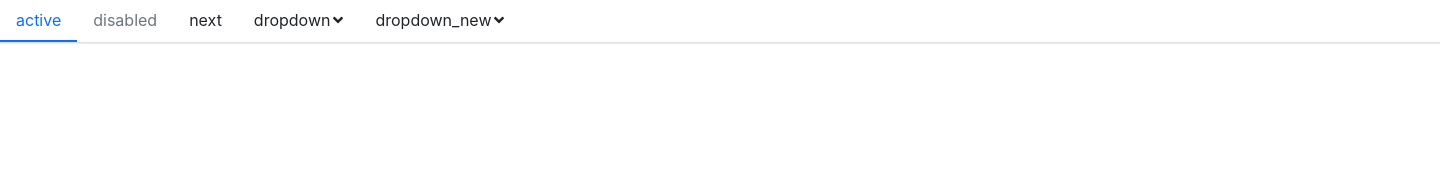
Scenario: test Menu and MenuItem component › should display dropdown items when hover on subMenu
The width and height of the screenshot is (1440, 190).
Expected: the text "dropdown_1" is not shown
Hover over the text "dropdown" at point(299, 20), box x1=254 y1=8 x2=344 y2=32
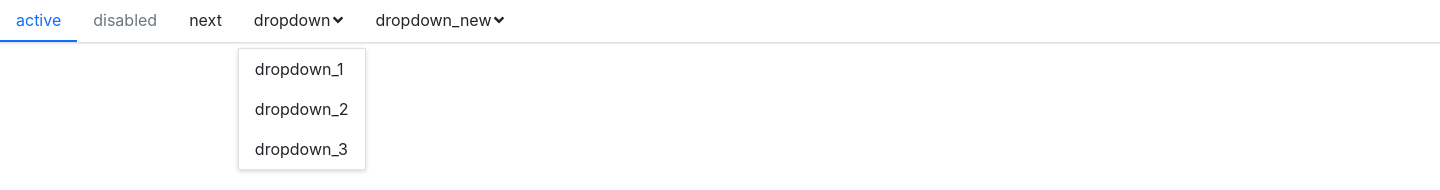
Now the list item "dropdown_1" is shown
Click the list item "dropdown_1" at point(299, 69), box x1=255 y1=59 x2=344 y2=79
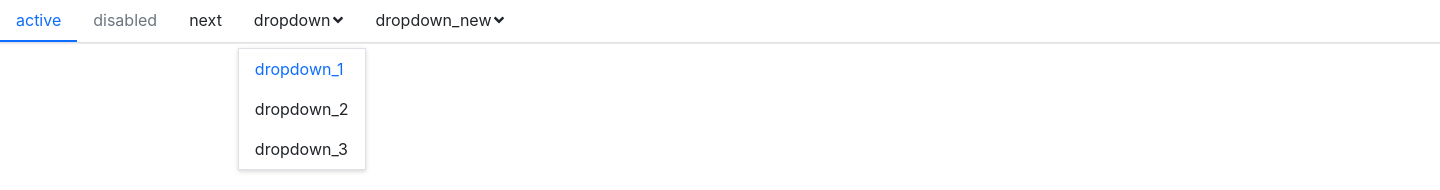
Move the pointer off the text "dropdown", box x1=254 y1=8 x2=344 y2=32
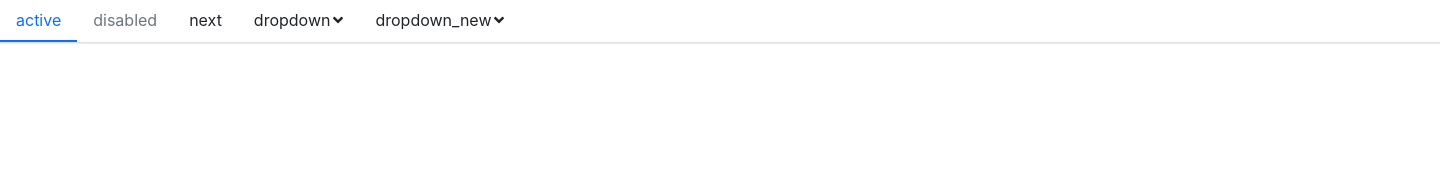
Now the list item "dropdown_1" is gone
